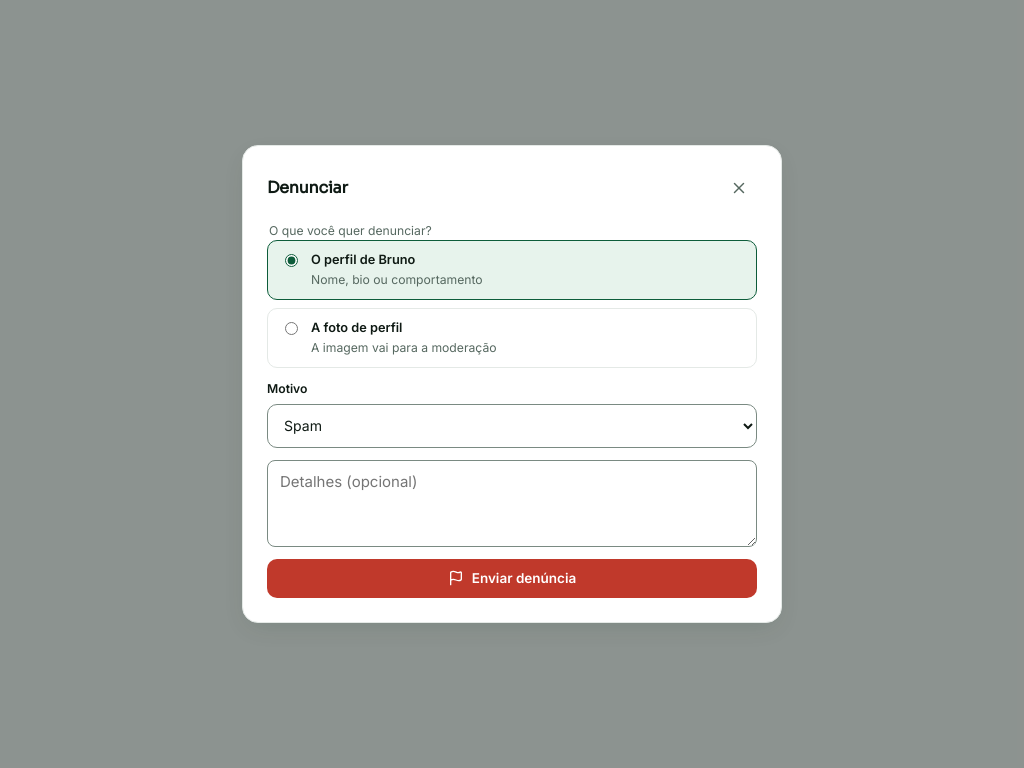
Scenario: denúncia com mais de um alvo › escolher a foto troca Spam por Conteúdo ofensivo, mostra a imagem e denuncia a foto
The width and height of the screenshot is (1024, 768).
Click the radio button labelled "A foto de perfil A imagem vai para a moderação" at (292, 328), box top-left (285, 322), bottom-right (298, 335)
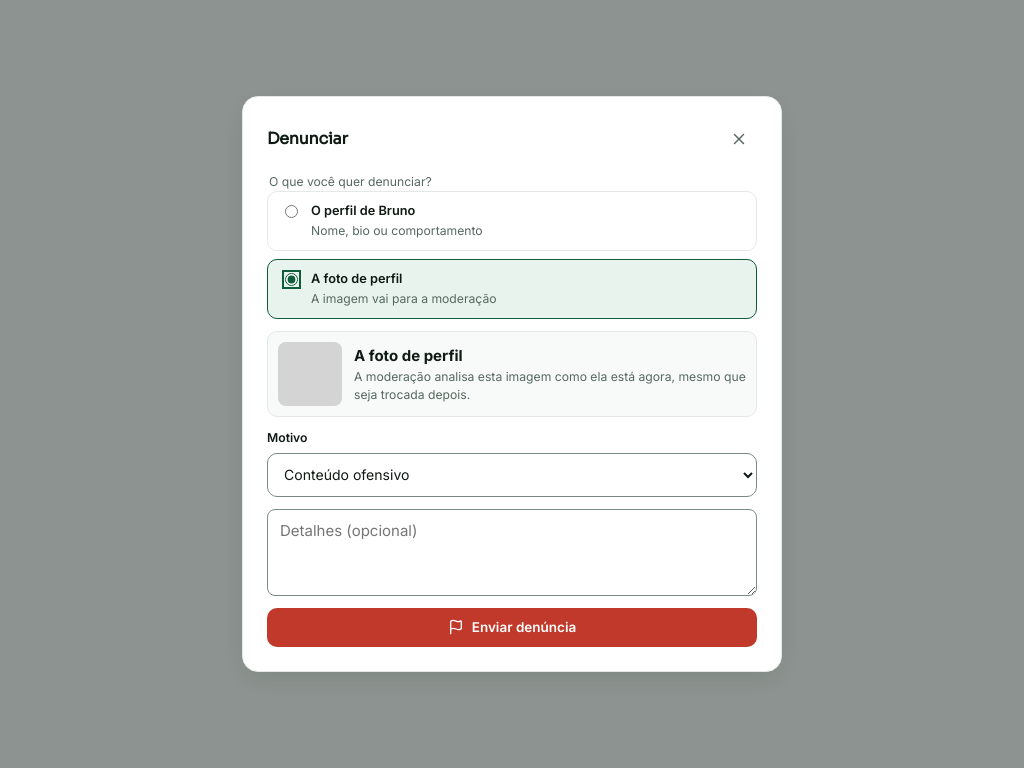
Check: the radio button labelled "A foto de perfil A imagem vai para a moderação" is checked, box top-left (285, 273), bottom-right (298, 286)
Check: the radio button labelled "O perfil de Bruno Nome, bio ou comportamento" is not checked, box top-left (285, 205), bottom-right (298, 218)
Check: the dropdown labelled "Motivo" shows "Conteúdo ofensivo", box top-left (267, 453), bottom-right (757, 497)
Click the button "Enviar denúncia" at (512, 627), box top-left (267, 608), bottom-right (757, 647)
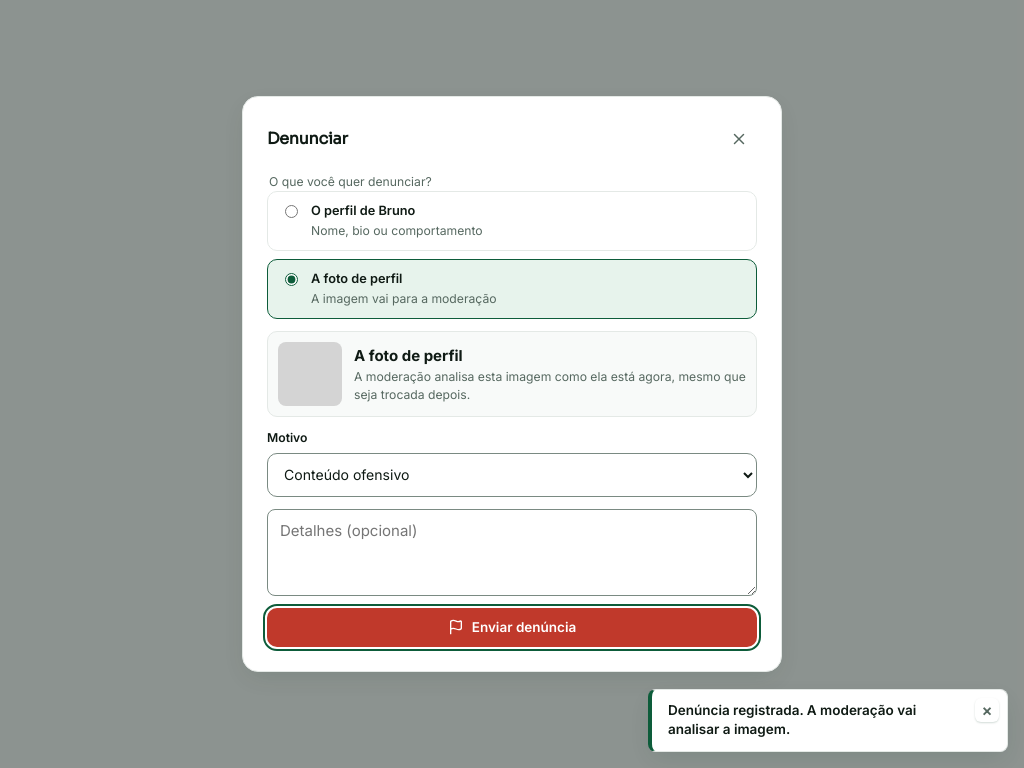
Check: the text "Denúncia registrada. A moderação vai analisar a imagem." is shown, box top-left (668, 702), bottom-right (916, 738)
